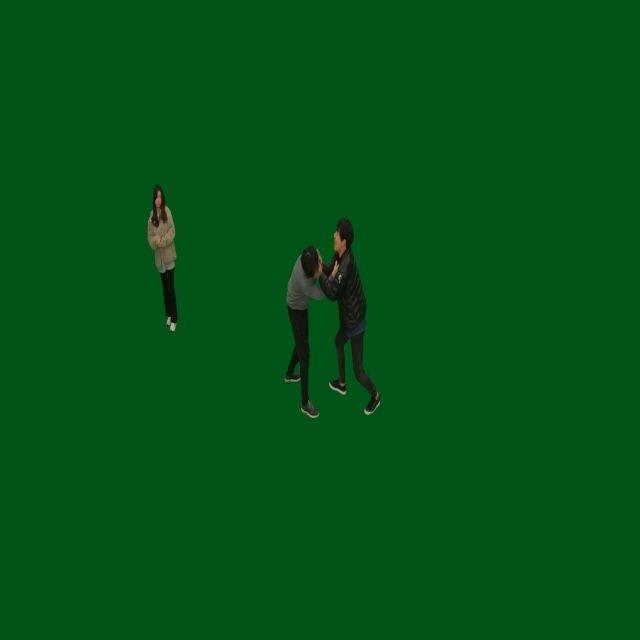fight: (282, 217, 381, 422)
non-fight: (146, 185, 182, 333)
